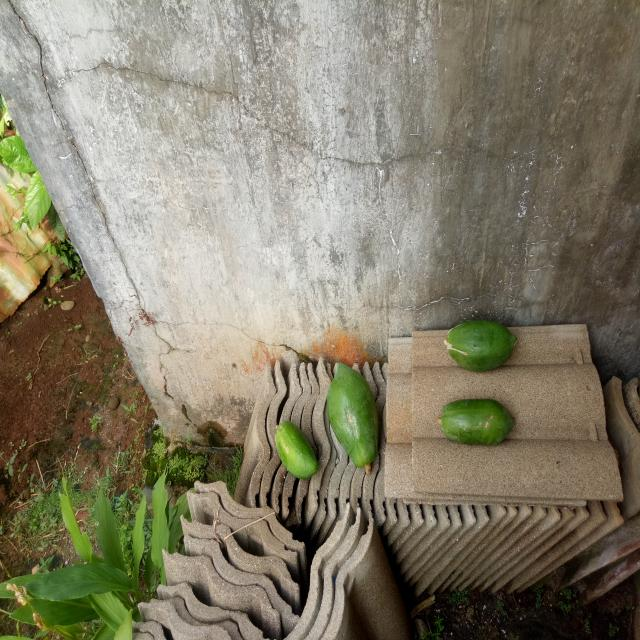Pepaya unrippen: (324, 358, 385, 470), (440, 316, 522, 374), (438, 398, 520, 452), (269, 417, 318, 479)
